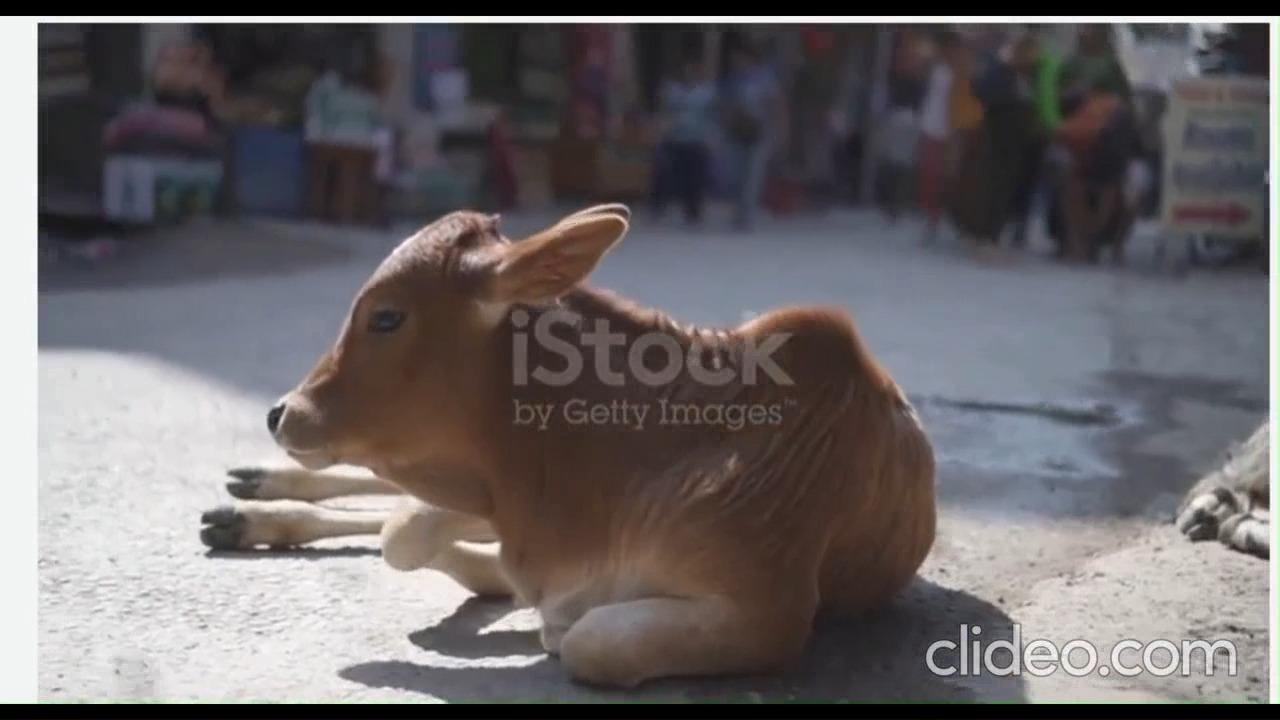Cow: (202, 207, 938, 680)
